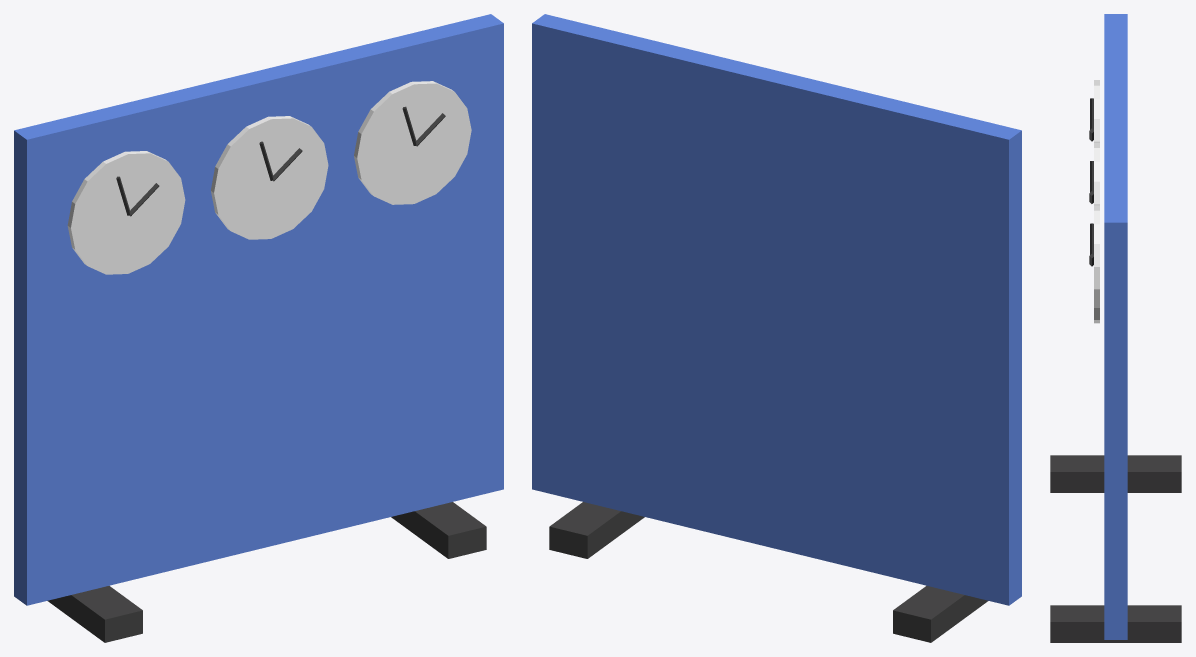
The picture shows the model from 3 angles, left to right: view 1: azimuth 30°, elevation 25°; view 2: azimuth 150°, elevation 25°; view 3: azimuth 270°, elevation 25°; orthographic projection. The views are drawn at different scales.
Parts seen in each view (by area): view 1: Panel, Clock face, Clock face.002, Clock face.001, Panel foot.001, Panel foot; view 2: Panel, Panel foot.001, Panel foot; view 3: Panel, Panel foot.001, Panel foot, Clock face.002, Clock face.001, Clock face.
Boxes of the visible parts, <box> form: Panel: <box>14,14,503,605</box>; Clock face: <box>67,151,185,274</box>; Clock face.002: <box>354,81,471,204</box>; Clock face.001: <box>210,116,328,239</box>; Panel foot.001: <box>391,502,486,558</box>; Panel foot: <box>47,585,142,642</box>; Panel: <box>532,14,1021,605</box>; Panel foot.001: <box>549,502,644,558</box>; Panel foot: <box>893,585,988,642</box>; Panel: <box>1104,14,1127,639</box>; Panel foot.001: <box>1050,605,1181,642</box>; Panel foot: <box>1050,455,1181,492</box>; Clock face.002: <box>1094,205,1099,323</box>; Clock face.001: <box>1094,142,1099,205</box>; Clock face: <box>1094,80,1099,142</box>.
Bounding box in the file's own units: 150 × 148 × 40.
